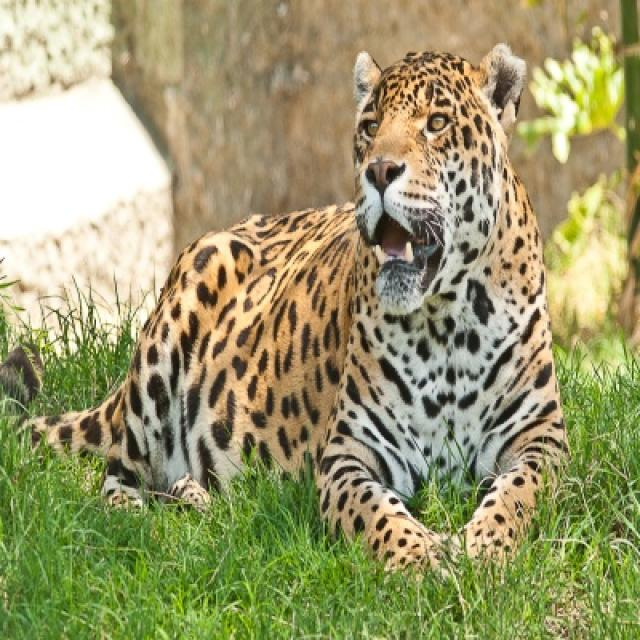Jaguar: (30, 45, 571, 566)
